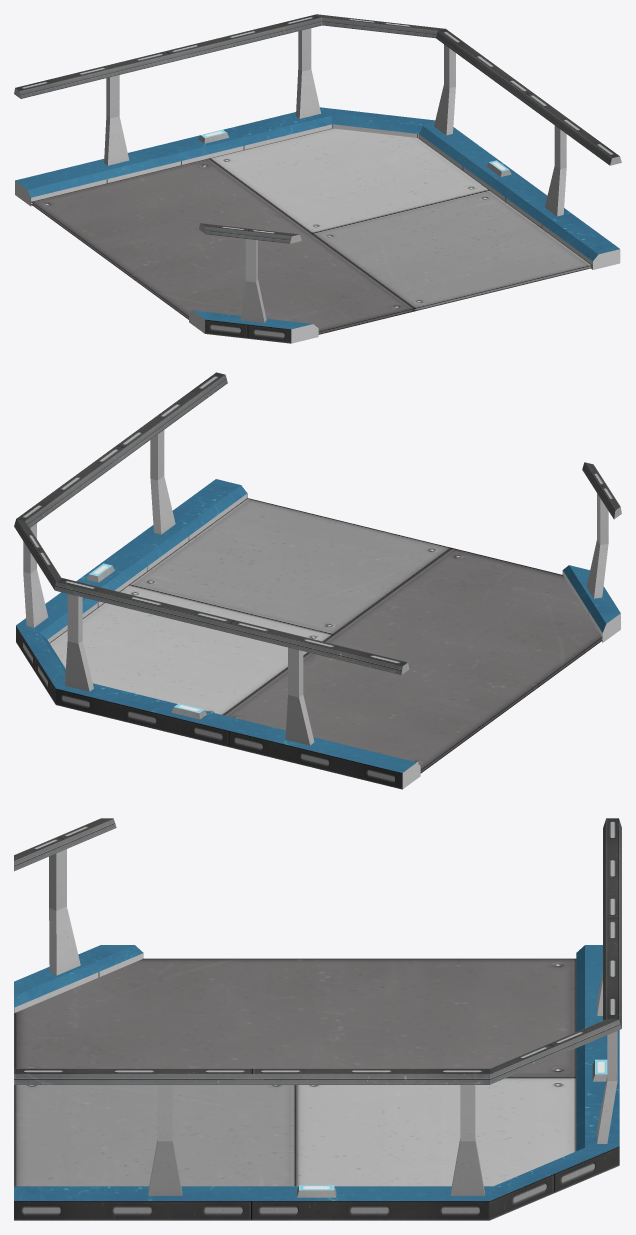
Rendered from Ramp_Coin_PlateForm_01.FBX.
3 views of the same model, one above another, from view 1: azimuth 30°, elevation 25°; view 2: azimuth 150°, elevation 25°; view 3: azimuth 270°, elevation 25° (orthographic). The views are drawn at different scales.
Visible parts, largest first — view 1: Ramp_Coin_PlateForm_01; view 2: Ramp_Coin_PlateForm_01; view 3: Ramp_Coin_PlateForm_01.
Part boxes in pixels (x1=…): Ramp_Coin_PlateForm_01: x1=14, y1=14, x2=621, y2=343; Ramp_Coin_PlateForm_01: x1=14, y1=372, x2=621, y2=789; Ramp_Coin_PlateForm_01: x1=14, y1=818, x2=621, y2=1220.
Bounding box in the file's own units: 141 × 37.34 × 141.
